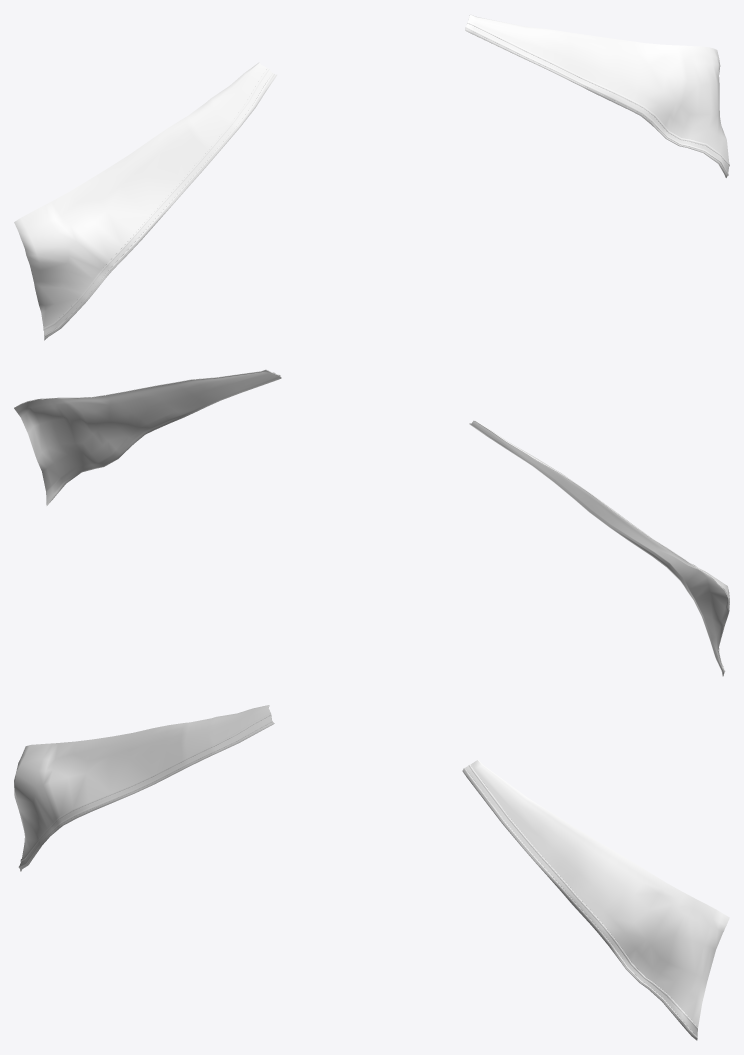
The model's file is Jac_Decor_Top_V1.glb.
The picture shows the model from 3 angles, top to bottom: view 1: azimuth 30°, elevation 25°; view 2: azimuth 150°, elevation 25°; view 3: azimuth 330°, elevation 25°; orthographic projection.
Parts seen in each view (by area): view 1: Jac_Decor_Top.001, Jac_Rope_Decor_Top.001; view 2: Jac_Decor_Top.001; view 3: Jac_Decor_Top.001, Jac_Rope_Decor_Top.001.
Part boxes in pixels (x1=…): Jac_Decor_Top.001: x1=14, y1=14, x2=729, y2=340; Jac_Rope_Decor_Top.001: x1=43, y1=21, x2=729, y2=337; Jac_Decor_Top.001: x1=14, y1=369, x2=729, y2=676; Jac_Decor_Top.001: x1=14, y1=705, x2=729, y2=1040; Jac_Rope_Decor_Top.001: x1=18, y1=713, x2=697, y2=1038.
Size of the model in its own units: 0.747 by 0.2138 by 0.061.
2 materials, 2 textured.
